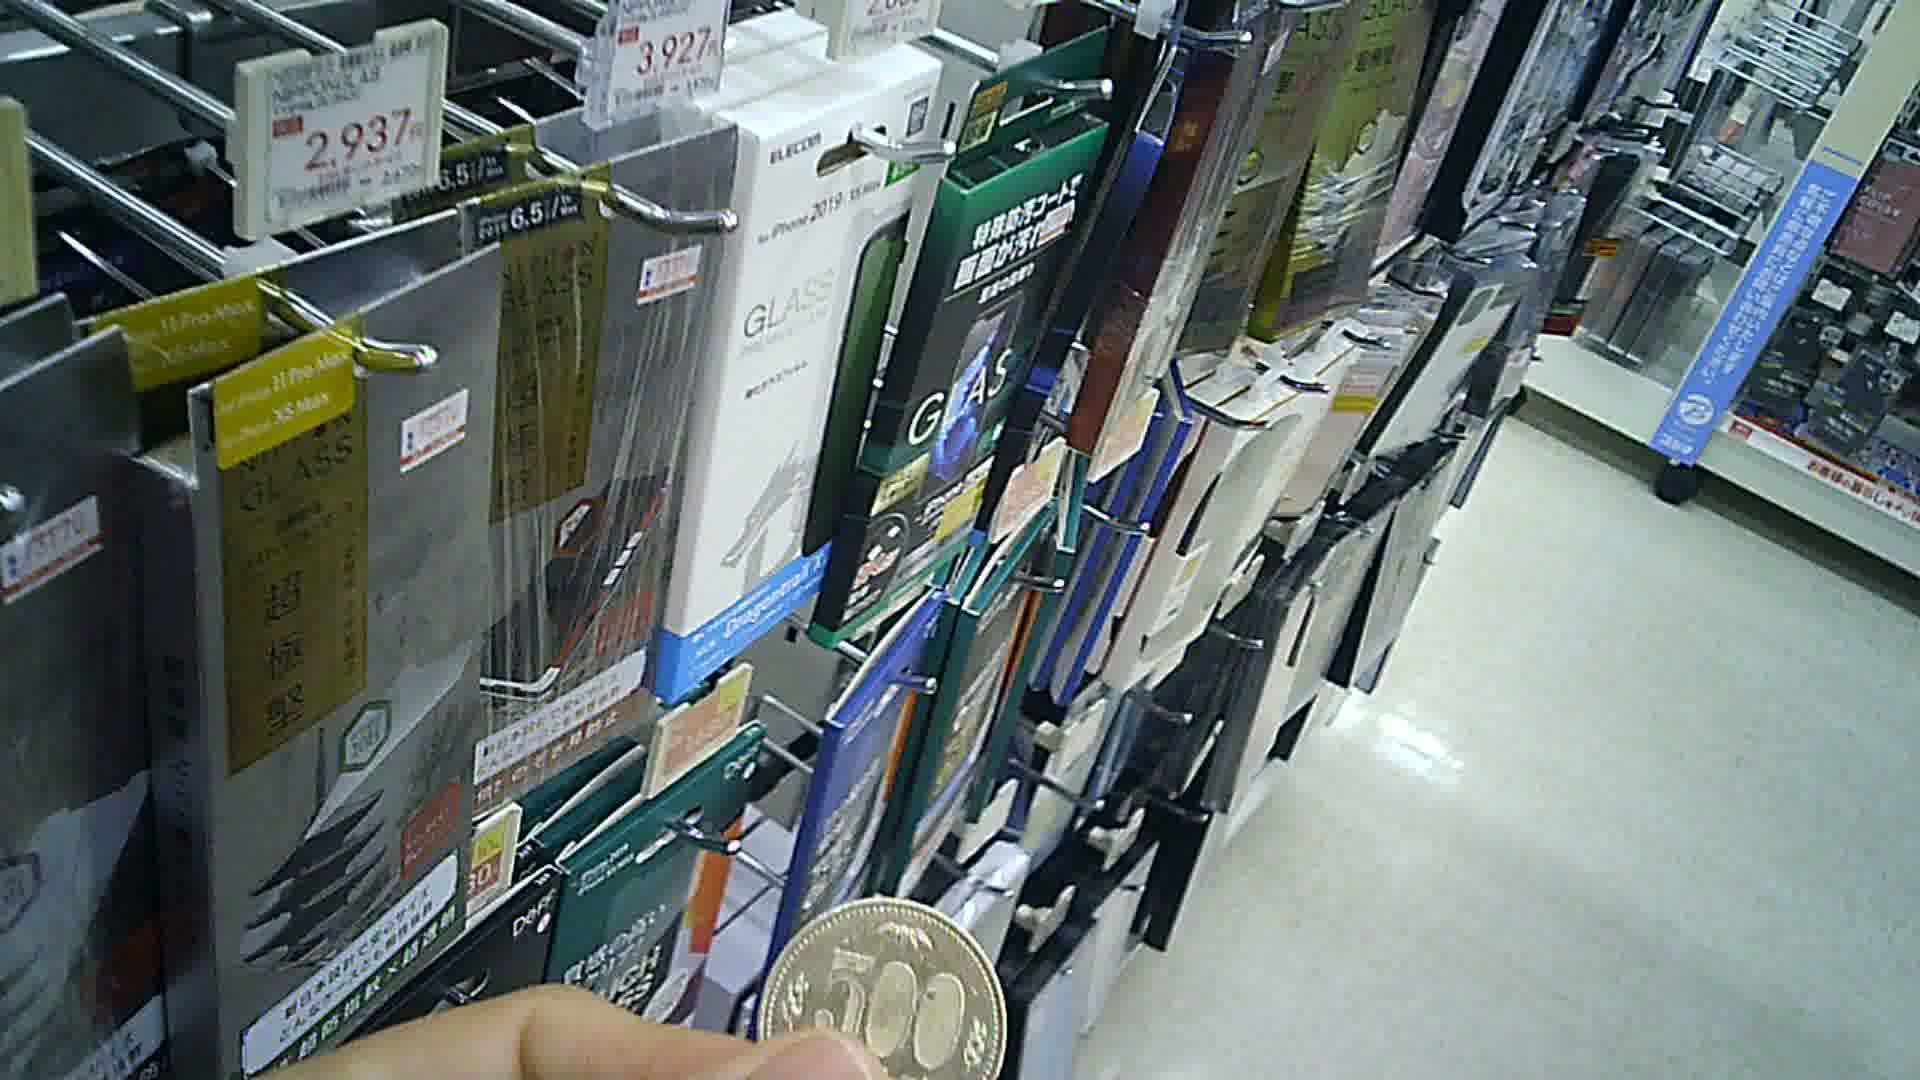500 Yen: (746, 884, 1019, 1073)
